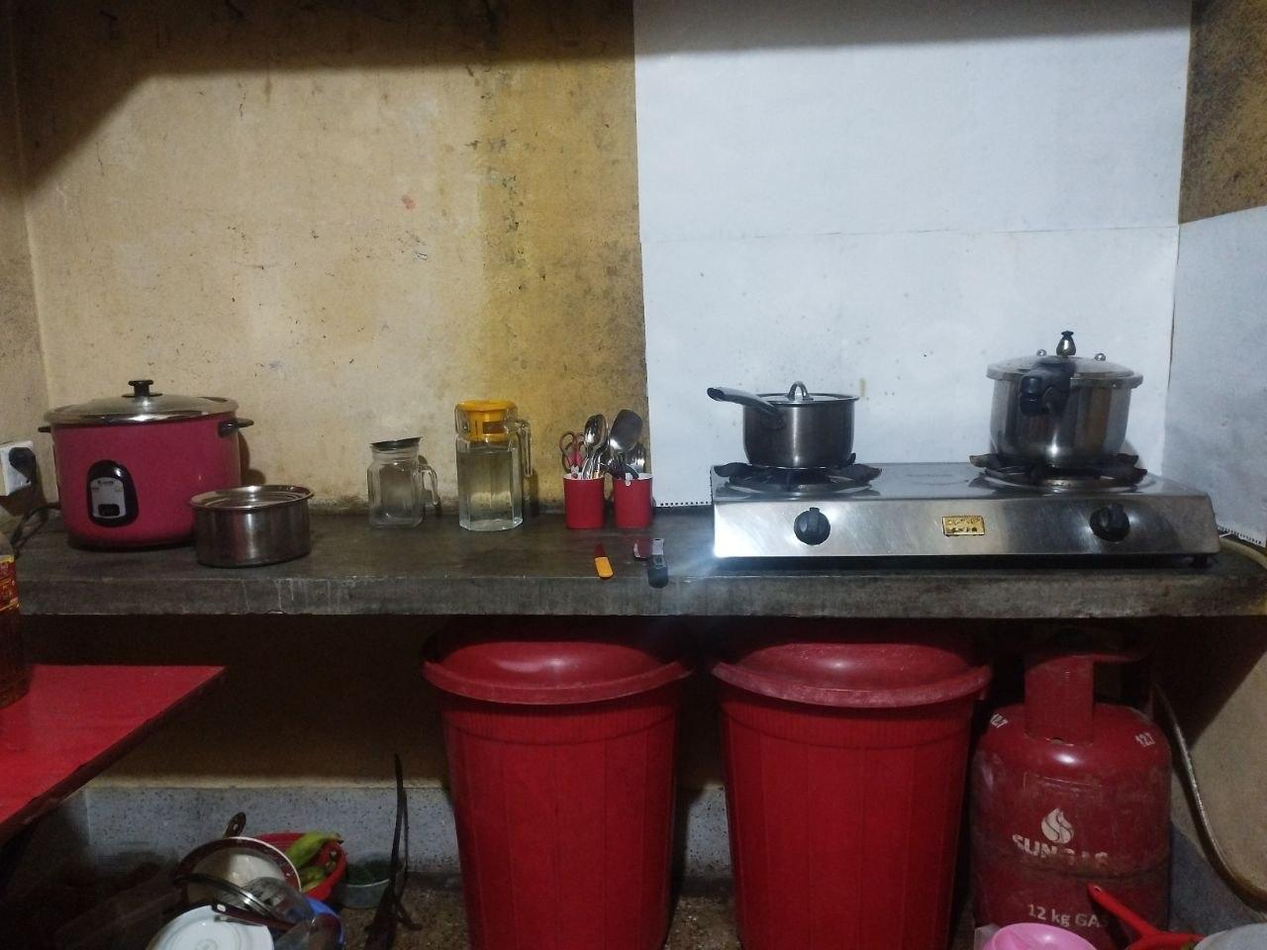Cooker: (30, 376, 260, 556), (963, 341, 1171, 486)
Jar: (355, 431, 443, 544)
Jug: (453, 398, 546, 523)
Kettle: (669, 378, 917, 493)
Knife: (627, 521, 673, 584), (586, 547, 613, 581)
Mug: (556, 450, 666, 526)
Plate: (166, 832, 337, 918)
Spoon: (560, 394, 664, 498)
